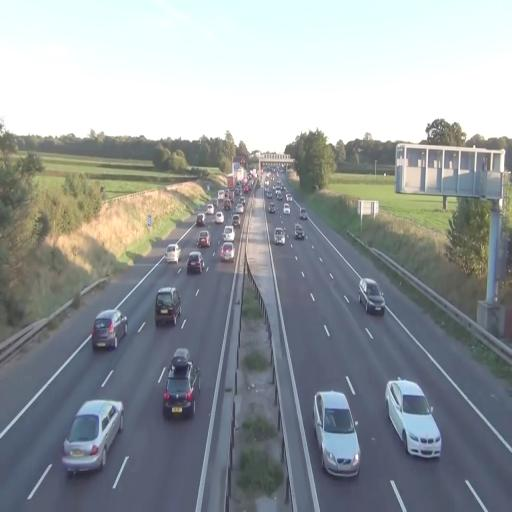vehicle: (62, 398, 124, 477), (385, 378, 442, 458), (314, 390, 360, 480), (162, 359, 199, 418), (92, 308, 128, 351), (154, 287, 181, 328), (358, 278, 385, 315), (186, 250, 205, 276), (166, 242, 182, 266), (218, 242, 236, 263), (273, 226, 287, 244), (220, 244, 235, 260), (294, 222, 306, 239)
